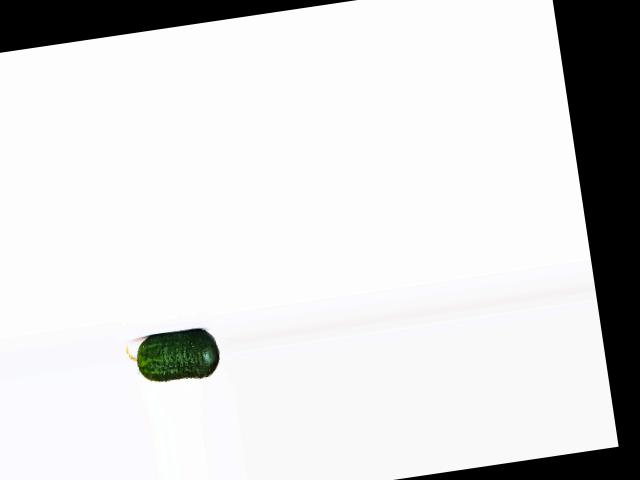cucumber: (123, 325, 221, 389)
